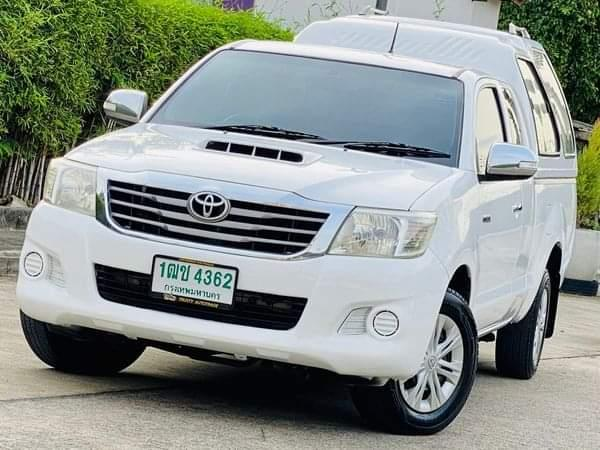license-plate: (145, 252, 242, 314)
